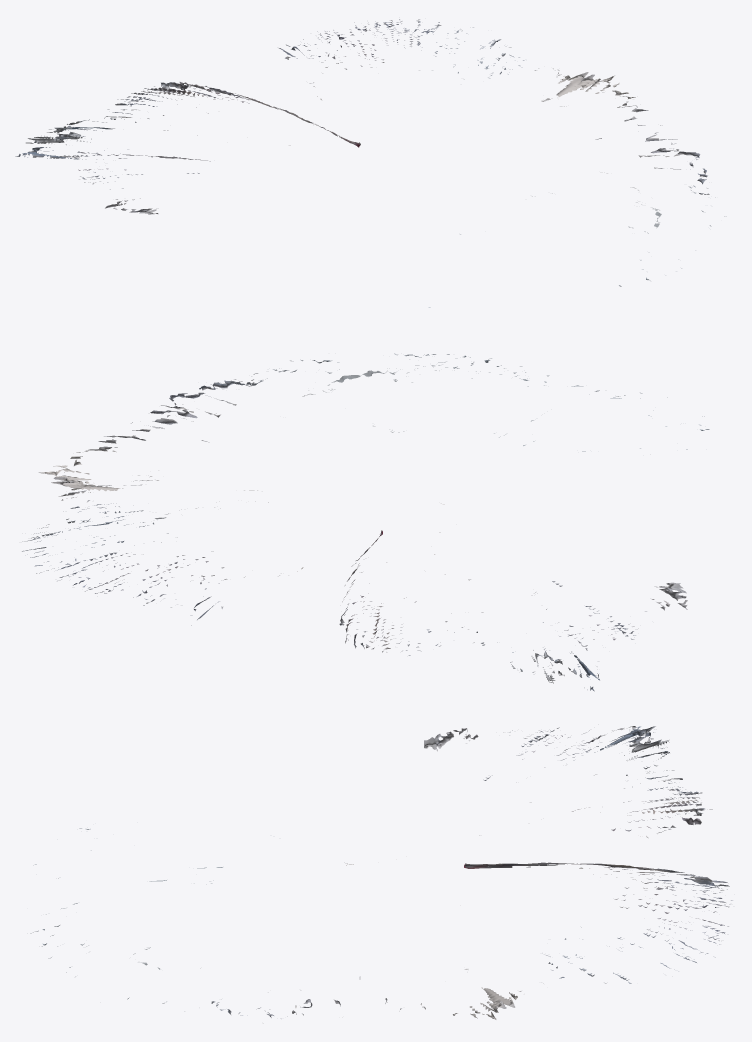
File: 0-world.glb
3 views of the same model, one above another, from view 1: azimuth 30°, elevation 25°; view 2: azimuth 150°, elevation 25°; view 3: azimuth 270°, elevation 25° (orthographic). The views are drawn at different scales.
Parts seen in each view (by area): view 1: world; view 2: world; view 3: world.
Part boxes in pixels (x1=…): world: x1=15, y1=19, x2=726, y2=307; world: x1=22, y1=353, x2=709, y2=691; world: x1=30, y1=726, x2=732, y2=1023.
Size of the model in its own units: 70.91 by 4.44 by 74.47.
